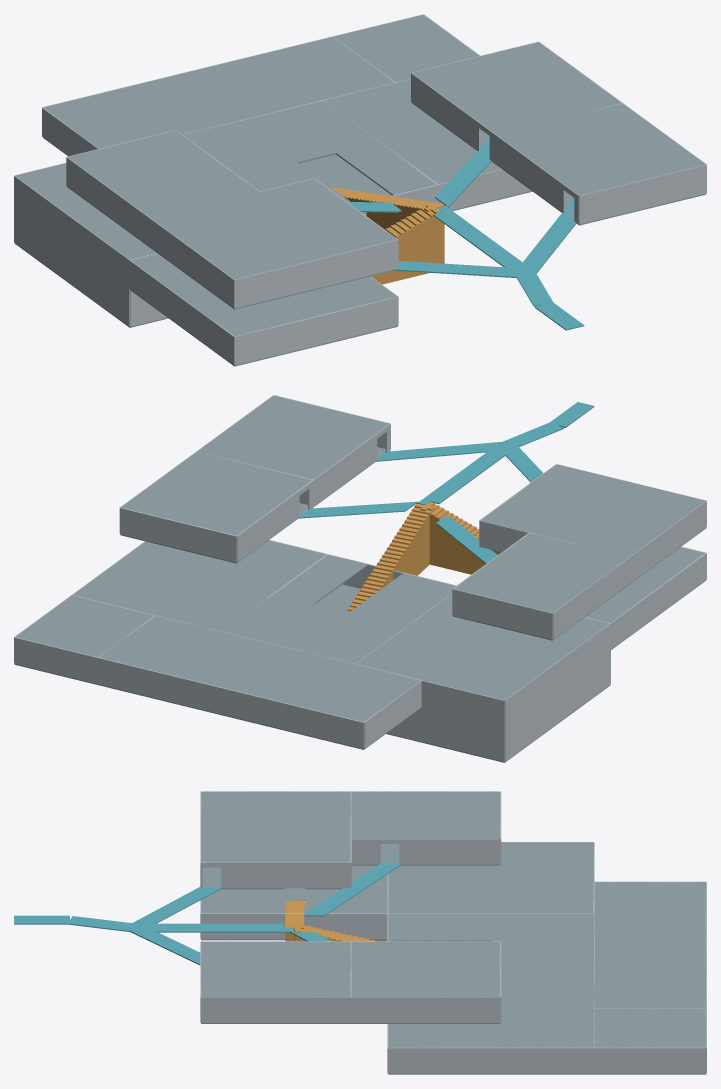
The model's file is rough-shell.glb.
3 views of the same model, one above another, from view 1: azimuth 30°, elevation 25°; view 2: azimuth 150°, elevation 25°; view 3: azimuth 270°, elevation 25° (orthographic). The views are drawn at different scales.
Parts seen in each view (by area): view 1: Ceiling cap cross, Ceiling cap shack, Ceiling cap assay, Ceiling cap wash, Ceiling cap stores, Ceiling cap ore-east, Ceiling cap lift, Wall vent S, Wall shack S, Wall lower W, Wall assay S, Ceiling cap ore-west (+25 smaller); view 2: Ceiling cap cross, Ceiling cap ore-east, Ceiling cap ore-west, Ceiling cap shack, Ceiling cap assay, Ceiling cap wash, Ceiling cap stores, Wall cross N, Ceiling cap lift, Wall lower W, Wall lower N, Wall wash N (+25 smaller); view 3: Ceiling cap cross, Ceiling cap ore-west, Ceiling cap shack, Ceiling cap ore-east, Ceiling cap wash, Ceiling cap assay, Ceiling cap stores, Wall ore-east E, Ceiling cap lift, Wall wash E, Wall assay E, Wall shack E (+19 smaller).
Part boxes in pixels (x1=…): Ceiling cap cross: x1=43, y1=37, x2=394, y2=148; Ceiling cap shack: x1=151, y1=178, x2=397, y2=279; Ceiling cap assay: x1=496, y1=103, x2=705, y2=195; Ceiling cap wash: x1=412, y1=42, x2=621, y2=134; Ceiling cap stores: x1=67, y1=130, x2=259, y2=218; Ceiling cap ore-east: x1=323, y1=79, x2=501, y2=184; Ceiling cap lift: x1=333, y1=14, x2=478, y2=81; Wall vent S: x1=234, y1=297, x2=398, y2=365; Wall shack S: x1=234, y1=240, x2=398, y2=308; Wall lower W: x1=14, y1=204, x2=129, y2=326; Wall assay S: x1=579, y1=164, x2=706, y2=224; Ceiling cap ore-west: x1=15, y1=163, x2=156, y2=259; Ceiling cap cross: x1=98, y1=616, x2=420, y2=721; Ceiling cap ore-east: x1=73, y1=540, x2=325, y2=631; Ceiling cap ore-west: x1=356, y1=593, x2=609, y2=700; Ceiling cap shack: x1=481, y1=464, x2=705, y2=556; Ceiling cap assay: x1=197, y1=395, x2=389, y2=479; Ceiling cap wash: x1=121, y1=452, x2=311, y2=535; Ceiling cap stores: x1=454, y1=533, x2=628, y2=613; Wall cross N: x1=97, y1=657, x2=363, y2=748; Ceiling cap lift: x1=15, y1=595, x2=153, y2=656; Wall lower W: x1=504, y1=650, x2=610, y2=761; Wall lower N: x1=387, y1=707, x2=504, y2=761; Wall wash N: x1=120, y1=507, x2=236, y2=562; Ceiling cap cross: x1=594, y1=882, x2=706, y2=1008; Ceiling cap ore-west: x1=388, y1=842, x2=593, y2=913; Ceiling cap shack: x1=201, y1=791, x2=350, y2=862; Ceiling cap ore-east: x1=388, y1=976, x2=593, y2=1047; Ceiling cap wash: x1=350, y1=941, x2=500, y2=996; Ceiling cap assay: x1=201, y1=941, x2=350, y2=996; Ceiling cap stores: x1=350, y1=791, x2=500, y2=838; Wall ore-east E: x1=388, y1=1047, x2=593, y2=1073; Ceiling cap lift: x1=594, y1=1008, x2=706, y2=1047; Wall wash E: x1=350, y1=996, x2=500, y2=1022; Wall assay E: x1=201, y1=996, x2=350, y2=1022; Wall shack E: x1=221, y1=862, x2=350, y2=888.
Size of the model in its own units: 52.16 by 13.16 by 74.08.
